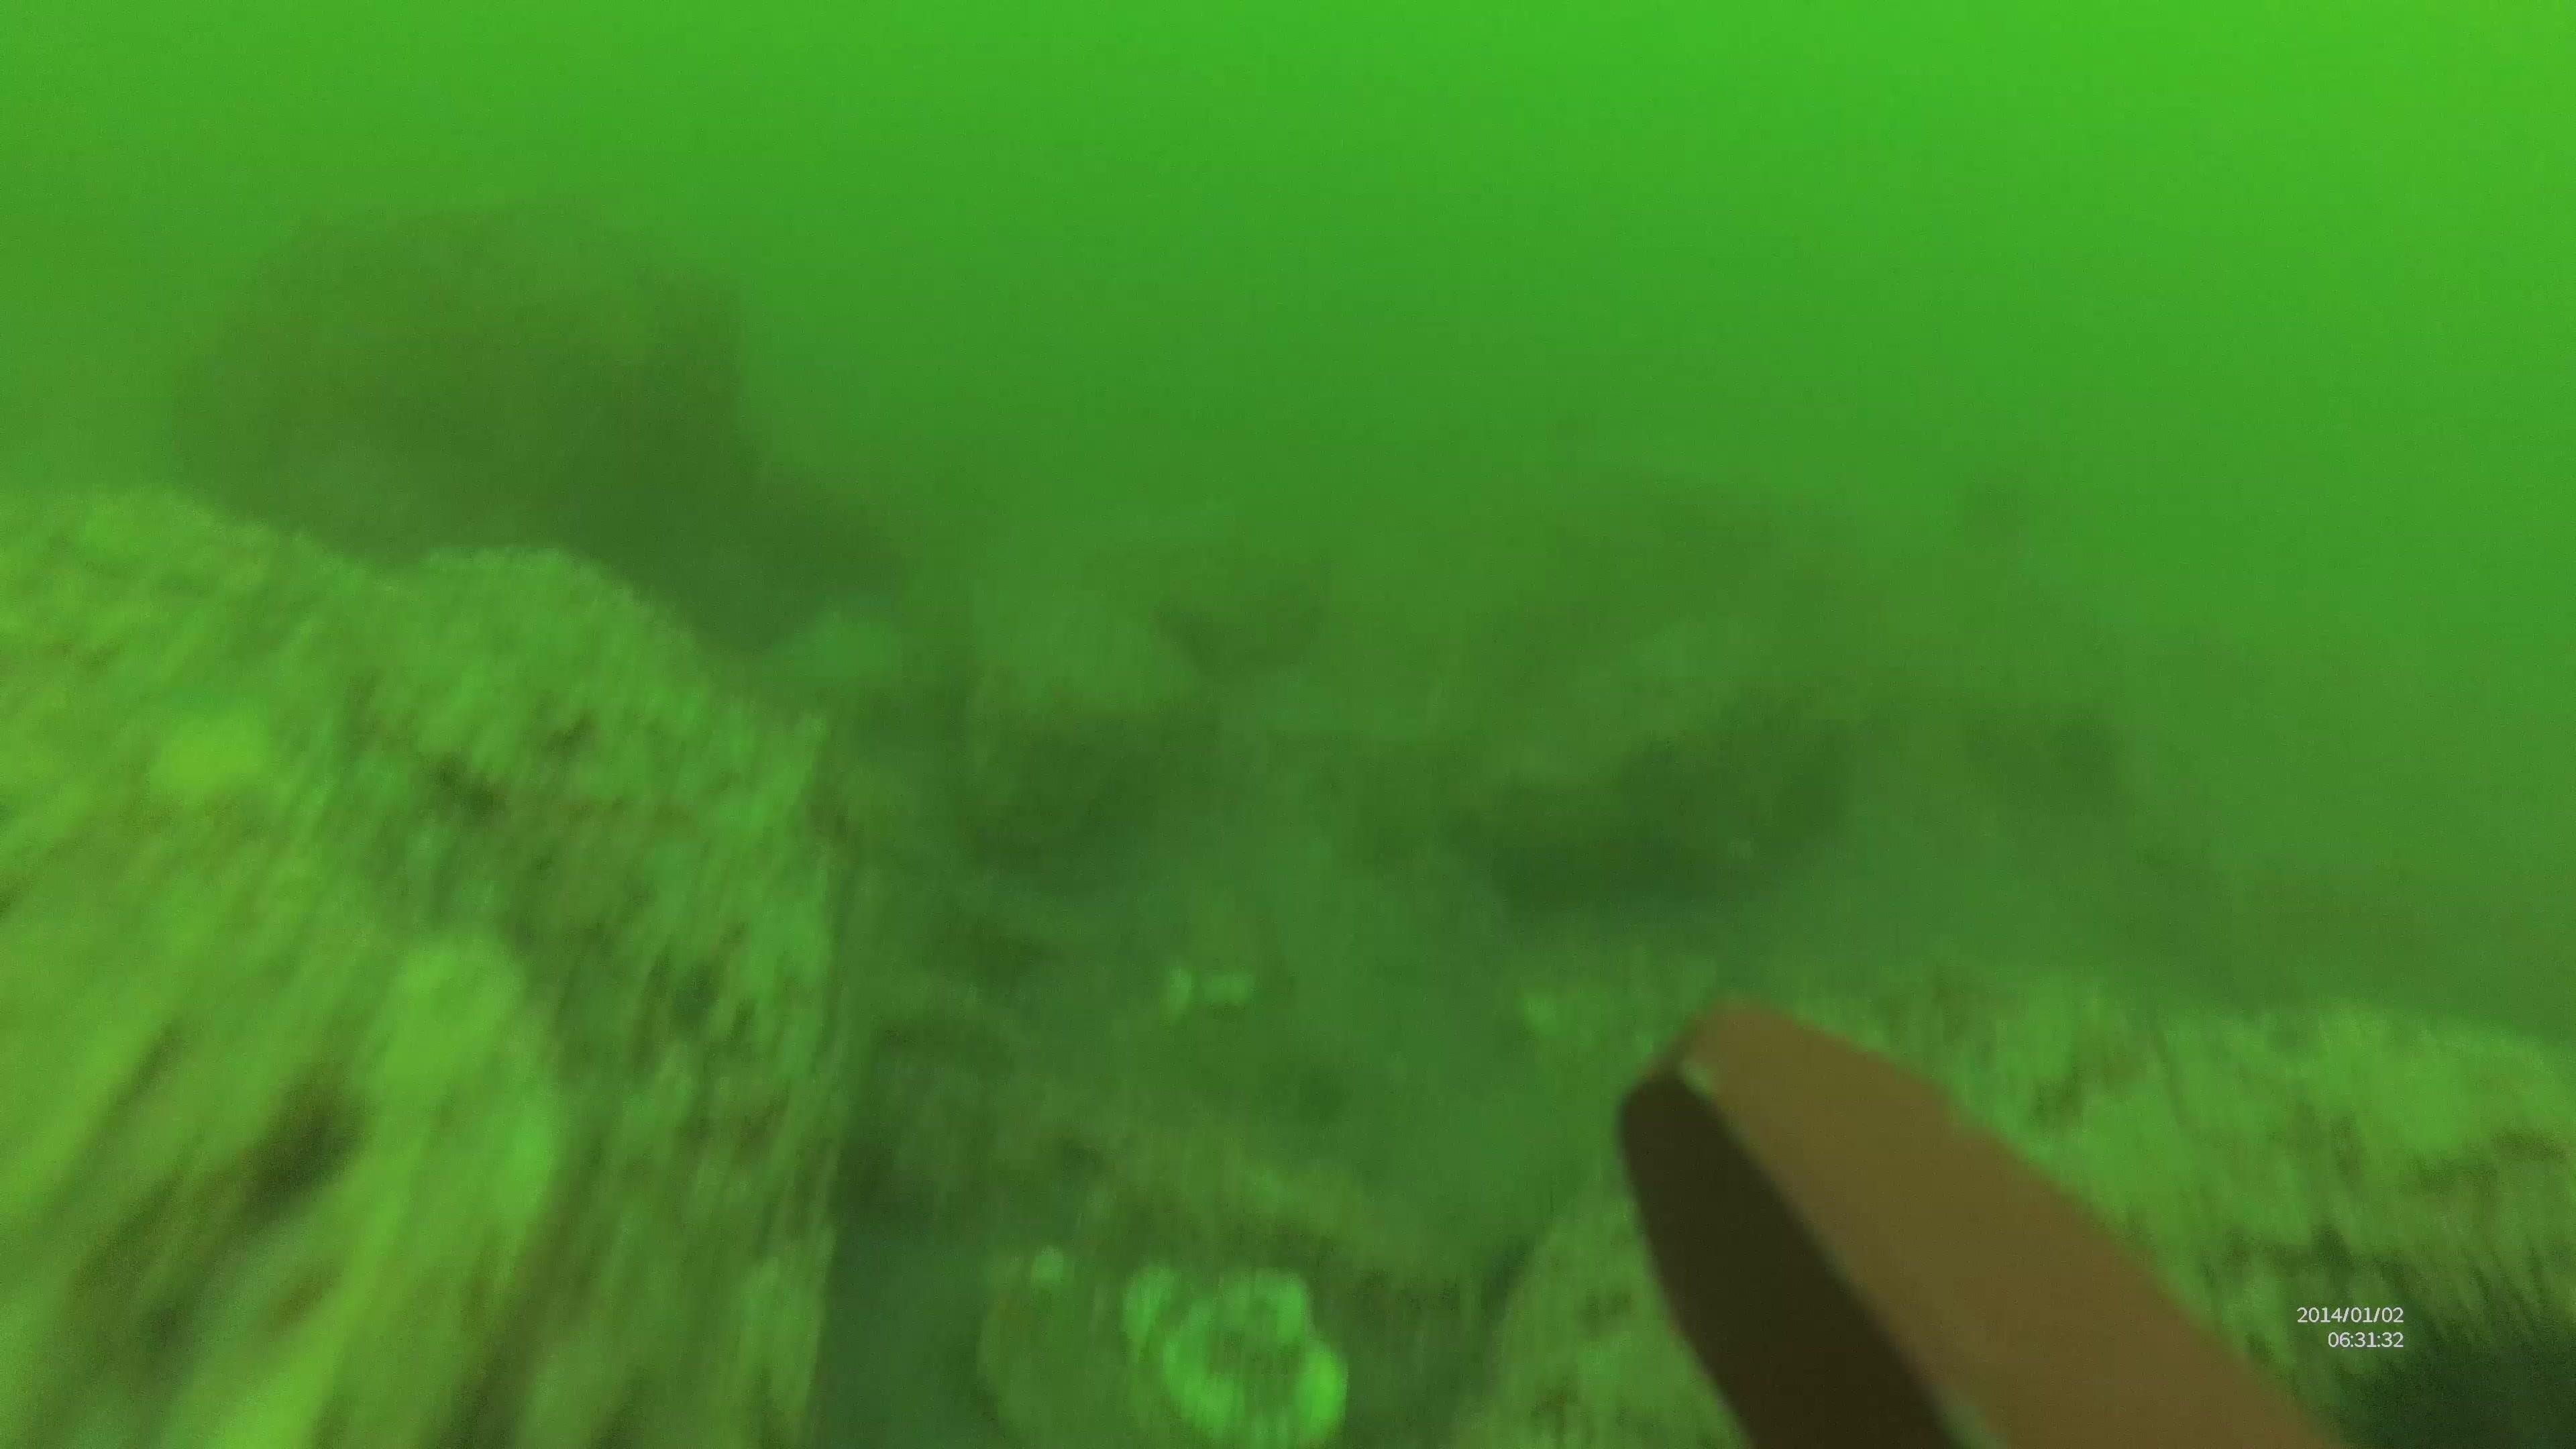echinus: (2321, 1224, 2571, 1444)
